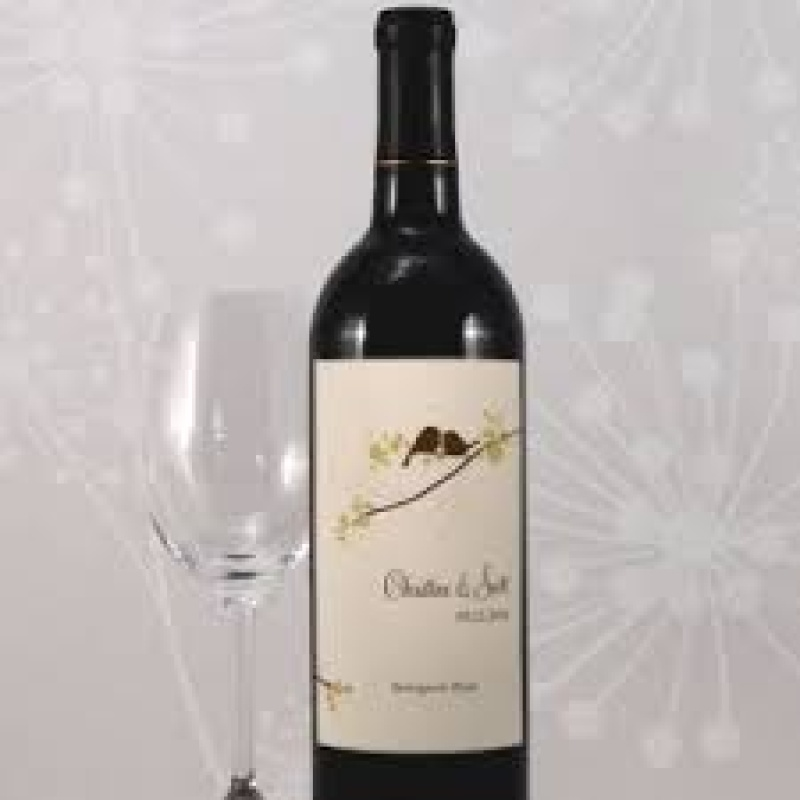wine: (305, 8, 524, 800)
